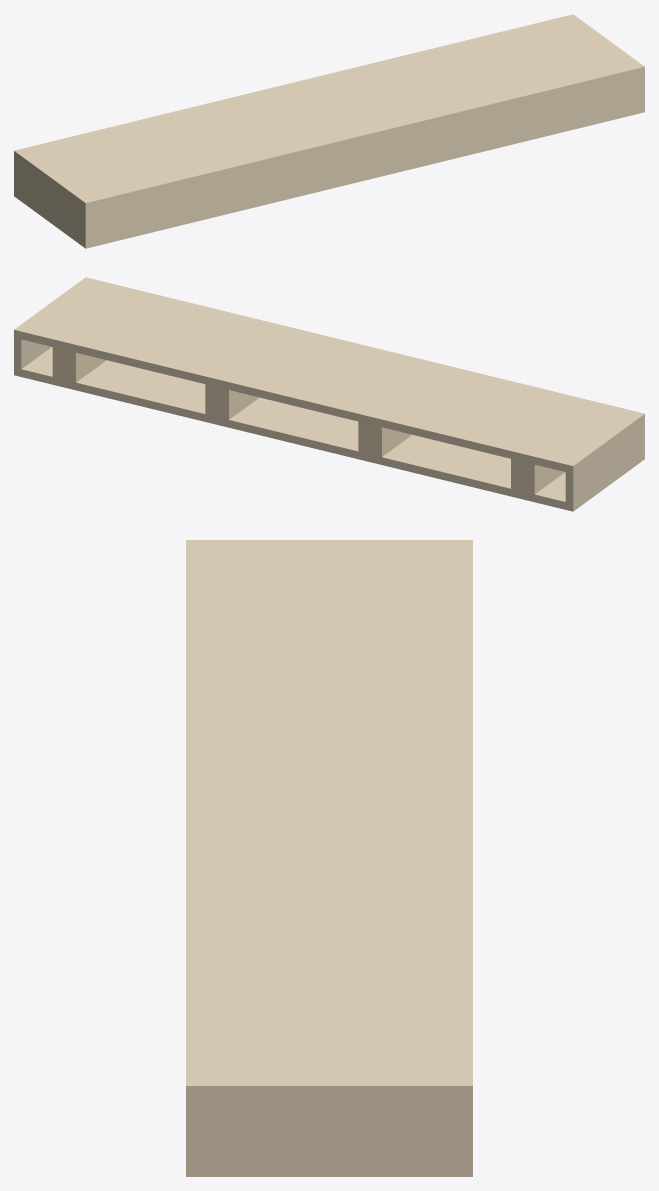
File: natural.glb
3 renders of one model, top to bottom at view 1: azimuth 30°, elevation 25°; view 2: azimuth 150°, elevation 25°; view 3: azimuth 270°, elevation 25°, orthographic. The views are drawn at different scales.
Visible parts, largest first — view 1: top.1, front.1, bottom.1, end_cap.1; view 2: top.1, bottom.1, end_cap.1, core.4, core.3, core.2, core.1, end_cap.2; view 3: top.1, end_cap.2, bottom.1, front.1.
Part boxes in pixels (x1,y1,x2,y2): top.1: [14, 14, 644, 210]; front.1: [81, 74, 644, 240]; bottom.1: [14, 104, 644, 248]; end_cap.1: [14, 159, 81, 237]; top.1: [14, 277, 644, 473]; bottom.1: [14, 347, 644, 511]; end_cap.1: [565, 425, 640, 503]; core.4: [52, 347, 106, 382]; core.3: [205, 384, 259, 419]; core.2: [358, 421, 411, 456]; core.1: [511, 459, 564, 494]; end_cap.2: [14, 337, 51, 369]; top.1: [186, 540, 472, 1101]; end_cap.2: [203, 1101, 472, 1161]; bottom.1: [186, 1161, 472, 1176]; front.1: [186, 1101, 203, 1161].
Size of the model in its own units: 0.9 by 0.07 by 0.2.
